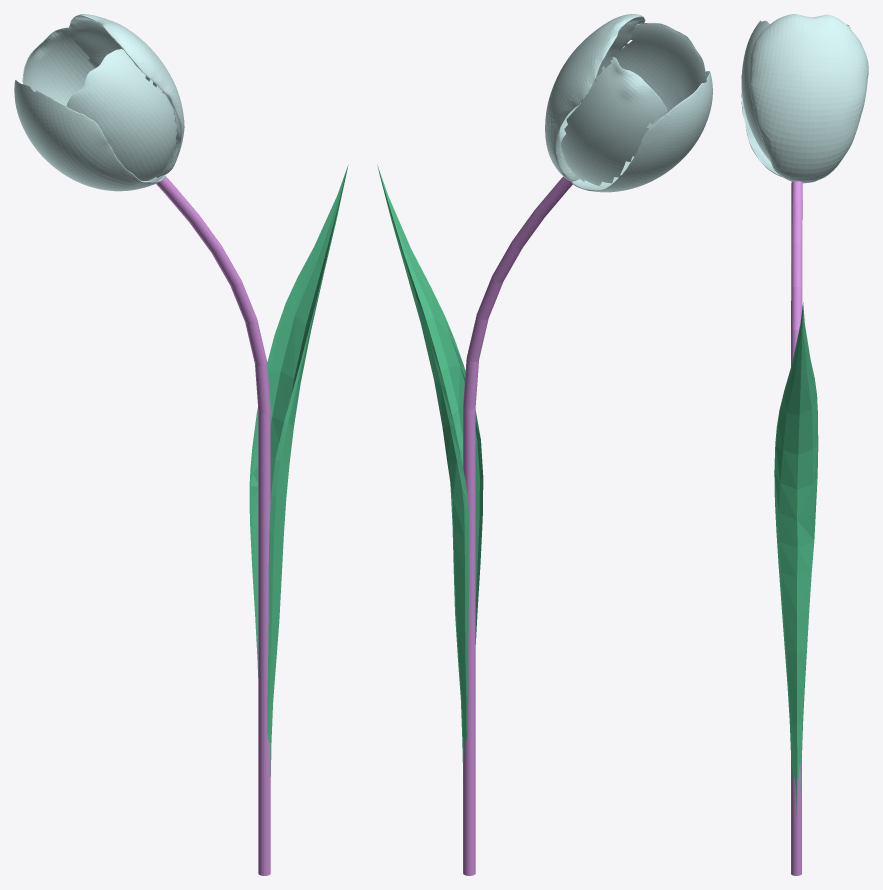
File: tulip.glb
3 views of the same model, side by side, from view 1: azimuth 30°, elevation 25°; view 2: azimuth 150°, elevation 25°; view 3: azimuth 270°, elevation 25° (orthographic). The views are drawn at different scales.
Visible parts, largest first — view 1: Leaf, Stem, Petal_2, Petal_1, Petal_8, Petal_3; view 2: Leaf, Stem, Petal_3, Petal_1, Petal_8, Petal_2; view 3: Petal_8, Leaf, Stem, Petal_2, Petal_1.
Boxes of the visible parts, x1,y1,x2,y2 form: Leaf: (249,165,348,776); Stem: (156,175,270,875); Petal_2: (66,48,177,181); Petal_1: (14,80,164,191); Petal_8: (69,14,184,177); Petal_3: (22,27,94,105); Leaf: (377,165,483,781); Stem: (463,176,572,875); Petal_3: (560,57,667,185); Petal_1: (571,71,712,192); Petal_8: (545,14,645,181); Petal_2: (600,22,705,128); Petal_8: (750,14,868,183); Leaf: (774,302,818,822); Stem: (791,181,802,875); Petal_2: (741,20,770,161); Petal_1: (741,76,830,178).
Bounding box in the file's own units: 14.72 × 38.51 × 5.64.
